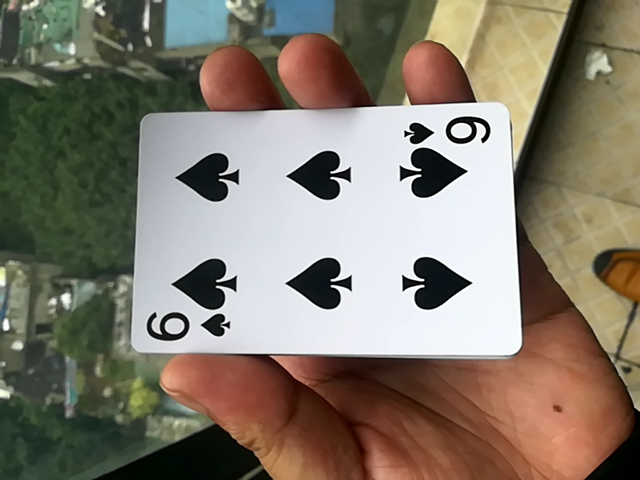ht 6: (116, 102, 524, 363)
